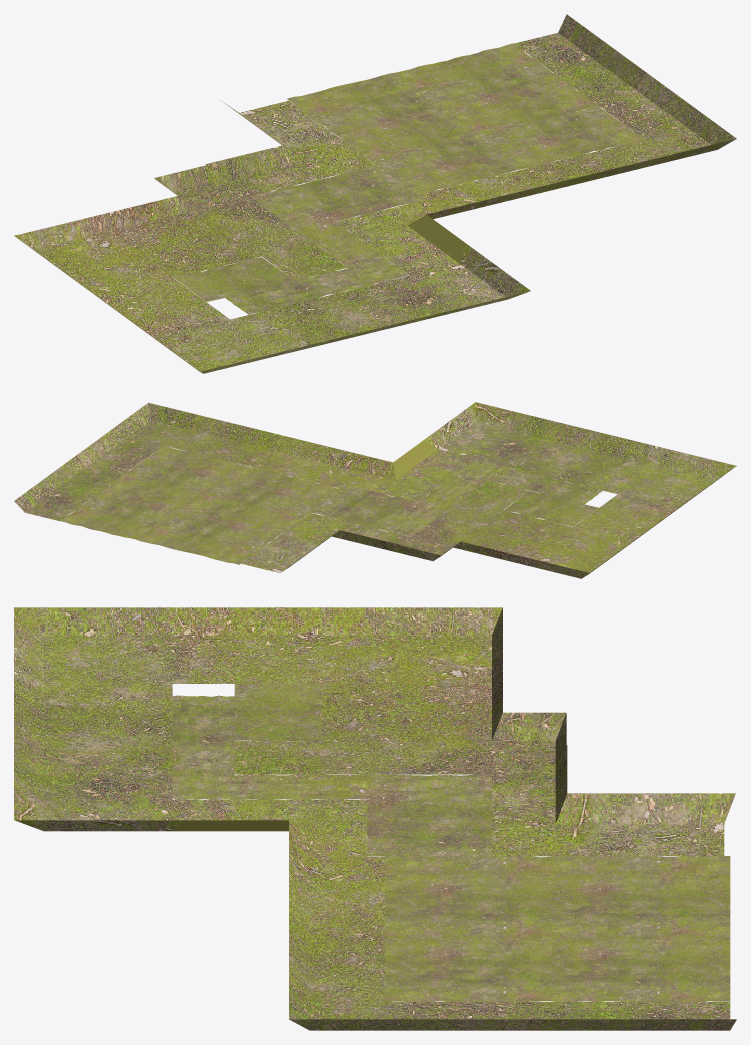
The model's file is WorldFloor.glb.
The picture shows the model from 3 angles, top to bottom: view 1: azimuth 30°, elevation 25°; view 2: azimuth 150°, elevation 25°; view 3: azimuth 270°, elevation 25°; orthographic projection. The views are drawn at different scales.
Parts seen in each view (by area): view 1: Plane, Floor; view 2: Plane, Floor; view 3: Plane, Floor.
Boxes of the visible parts, x1,y1,x2,y2 form: Plane: (14, 14, 736, 373); Floor: (174, 43, 643, 314); Plane: (14, 402, 736, 578); Floor: (60, 445, 602, 564); Plane: (14, 607, 736, 1030); Floor: (172, 683, 730, 1001).
Bounding box in the file's own units: 141 × 3.52 × 105.
Materials: 1 (1 with a texture image).
